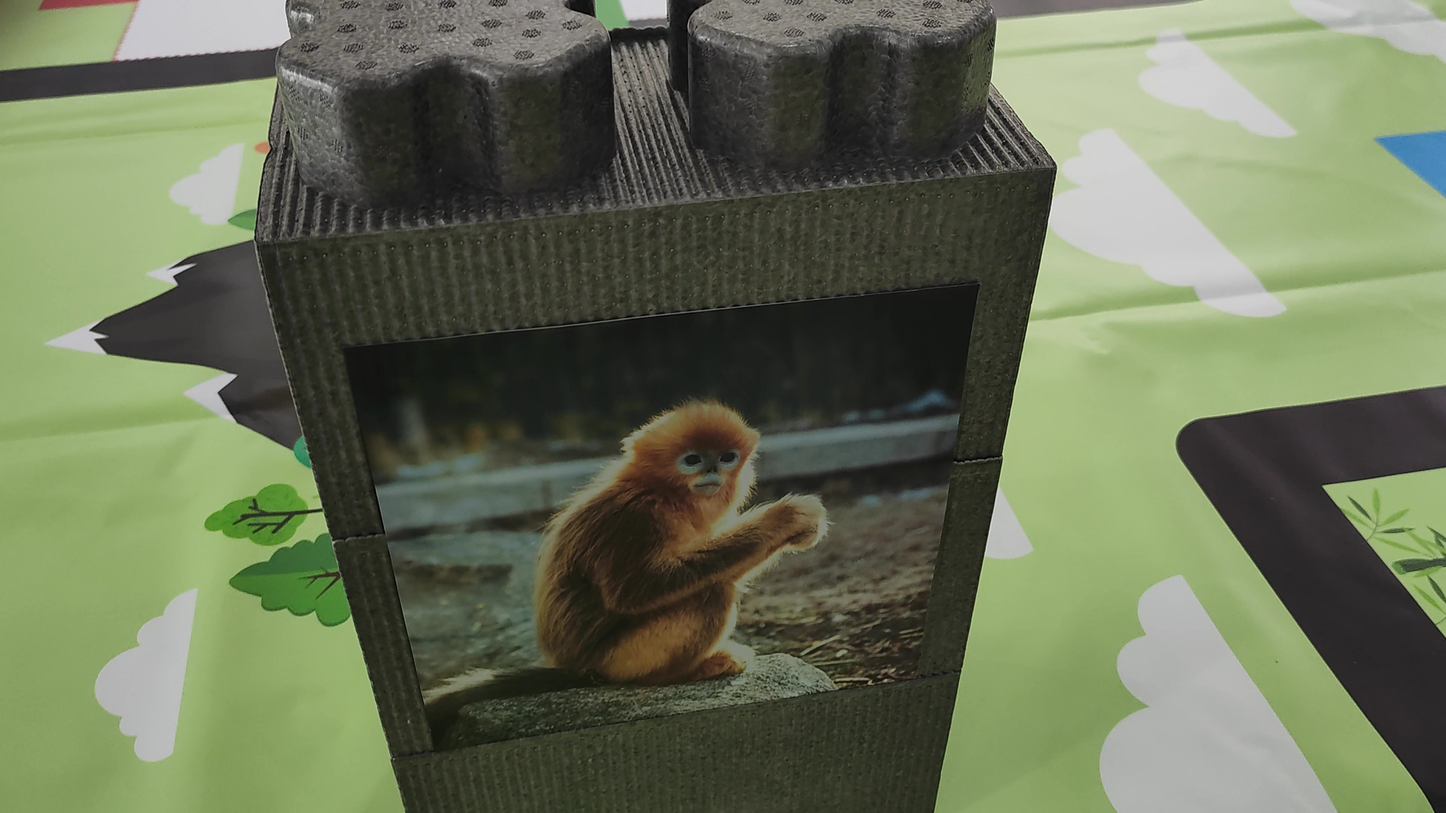monkey: (397, 355, 840, 736)
